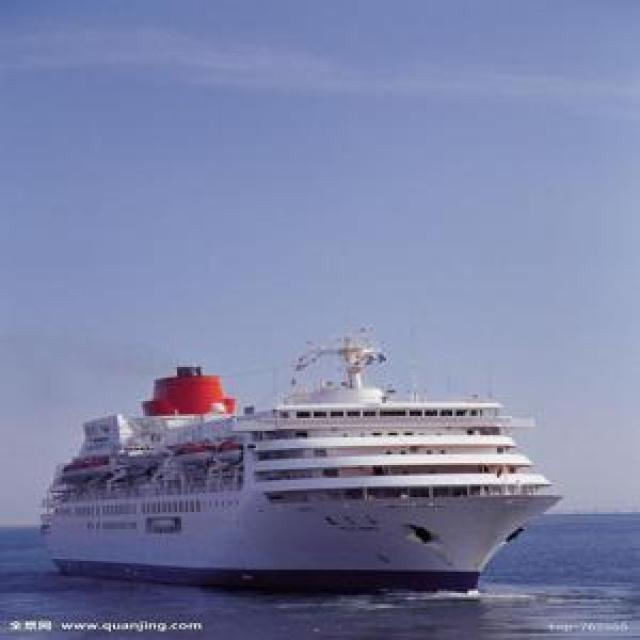passenger ship: (32, 328, 558, 591)
